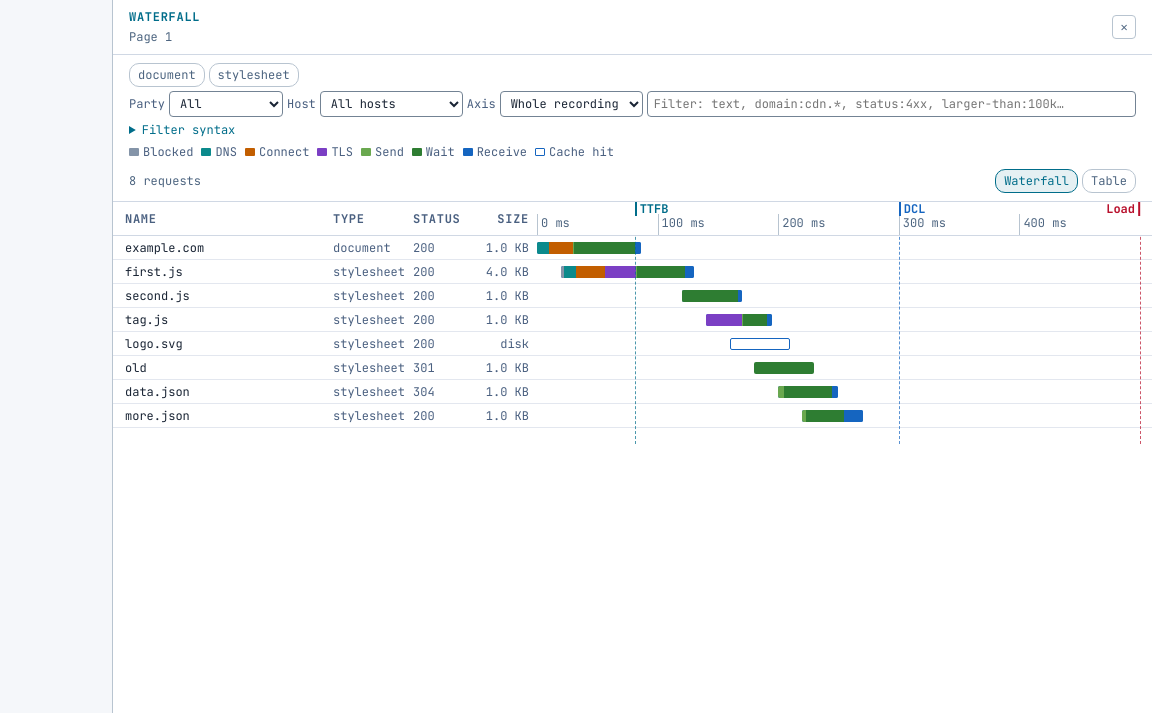
it: RequestDetail: the sequence of a request › tells each step of a new connection, with its start, its time and what happens
Click the button "first.js stylesheet 200 4.0 KB": (632, 272) [113,260,1151,284]
(page scrolled)
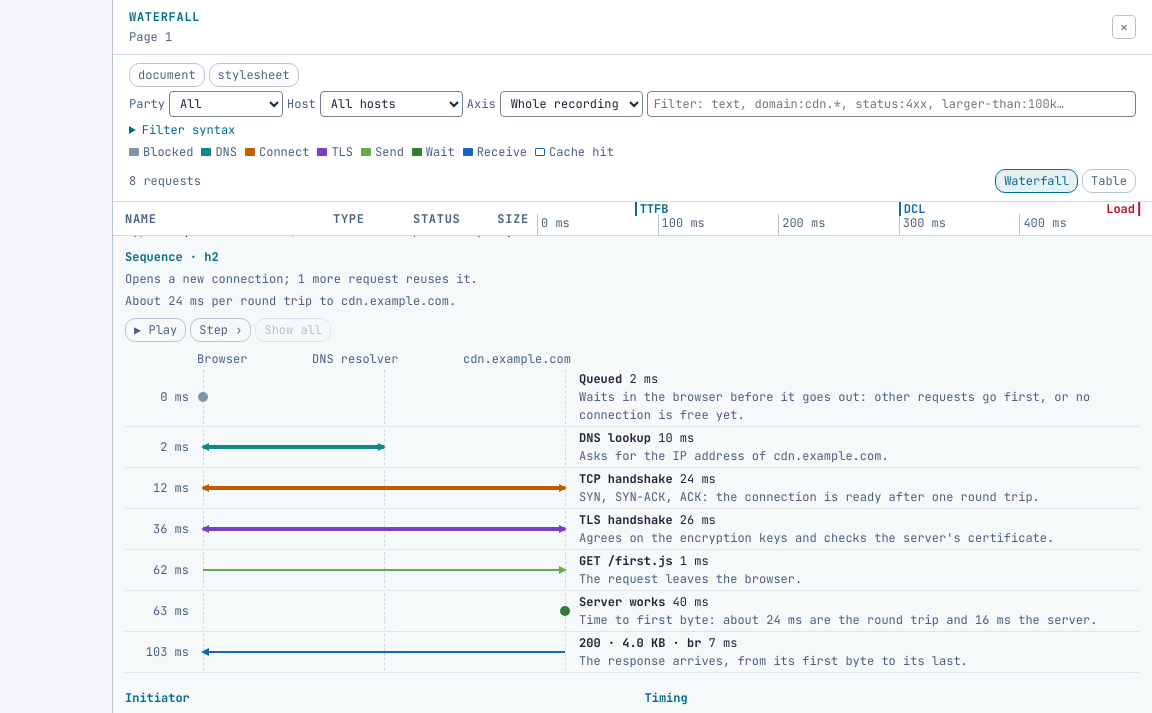
Check: the text "Browser" is shown, box [197,350,247,368]
Check: the text "DNS resolver" is shown, box [312,350,398,368]
Check: the text "cdn.example.com" is shown, box [463,350,571,368]
